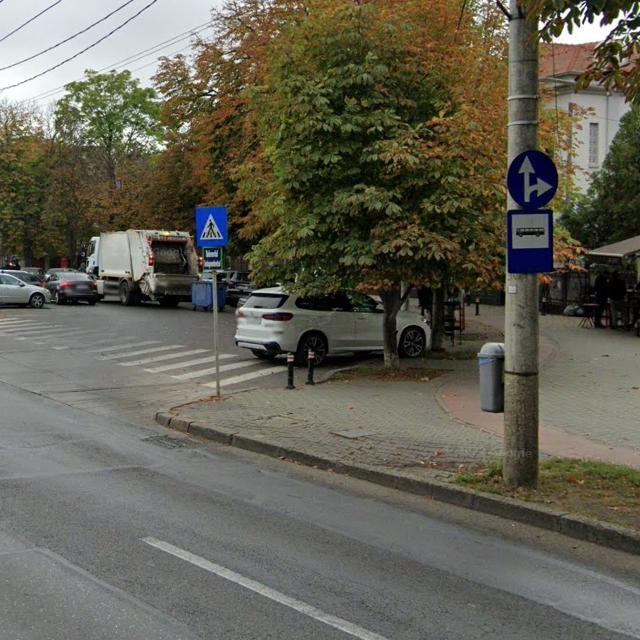info_crosswalk: (196, 207, 229, 249)
